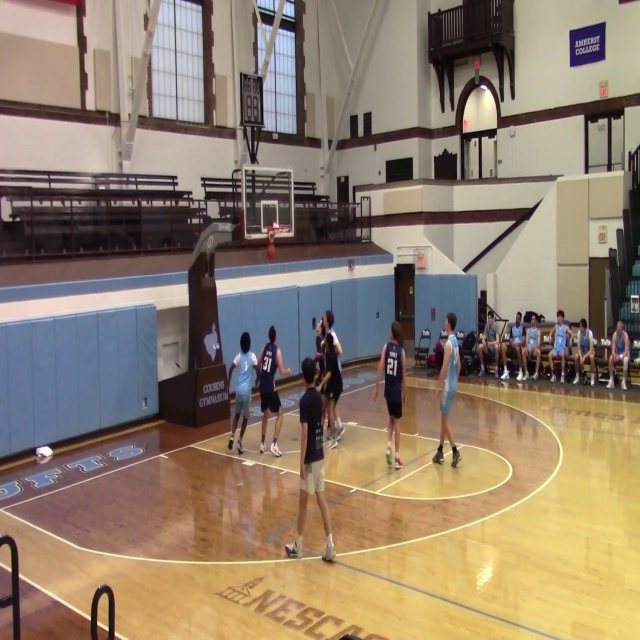Basketball: (35, 446, 53, 464), (36, 446, 53, 458)
